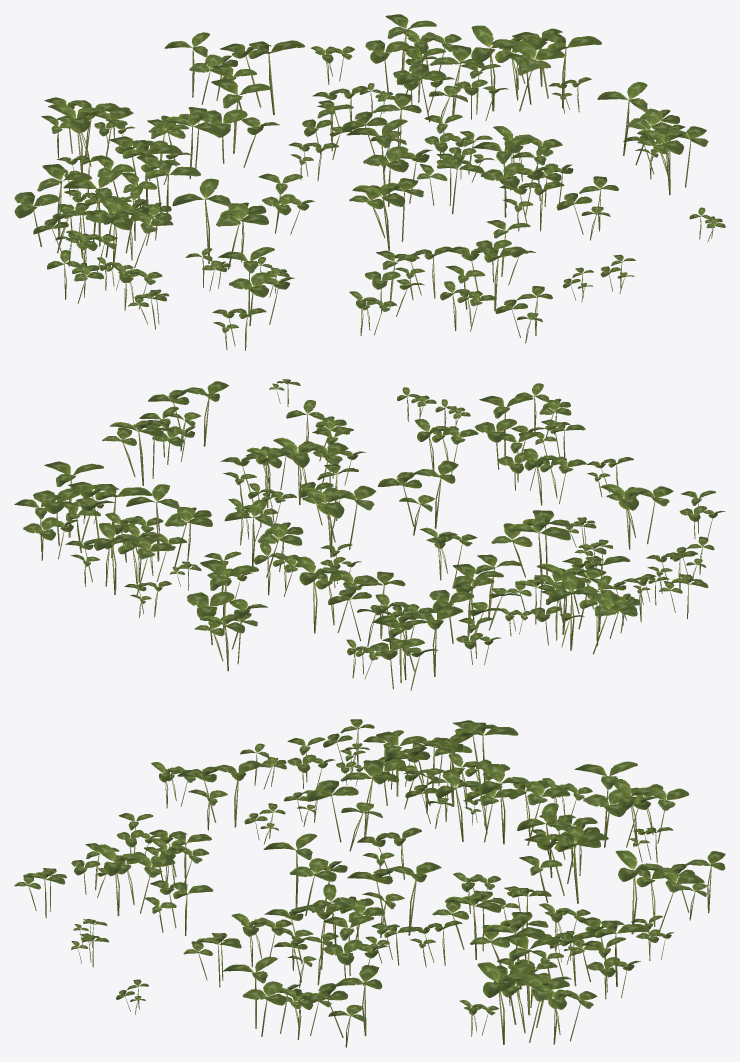
File: clover-patch.glb
The picture shows the model from 3 angles, top to bottom: view 1: azimuth 30°, elevation 25°; view 2: azimuth 150°, elevation 25°; view 3: azimuth 270°, elevation 25°; orthographic projection. The views are drawn at different scales.
Parts seen in each view (by area): view 1: lod2, lod1; view 2: lod2, lod1; view 3: lod2, lod1.
Part boxes in pixels (x1=…): lod2: x1=14, y1=14, x2=725, y2=350; lod1: x1=18, y1=19, x2=725, y2=348; lod2: x1=14, y1=379, x2=725, y2=689; lod1: x1=19, y1=382, x2=717, y2=690; lod2: x1=14, y1=719, x2=725, y2=1046; lod1: x1=23, y1=719, x2=725, y2=1047.
Size of the model in its own units: 80.41 by 9.8 by 79.09.
1 material, 1 textured.
